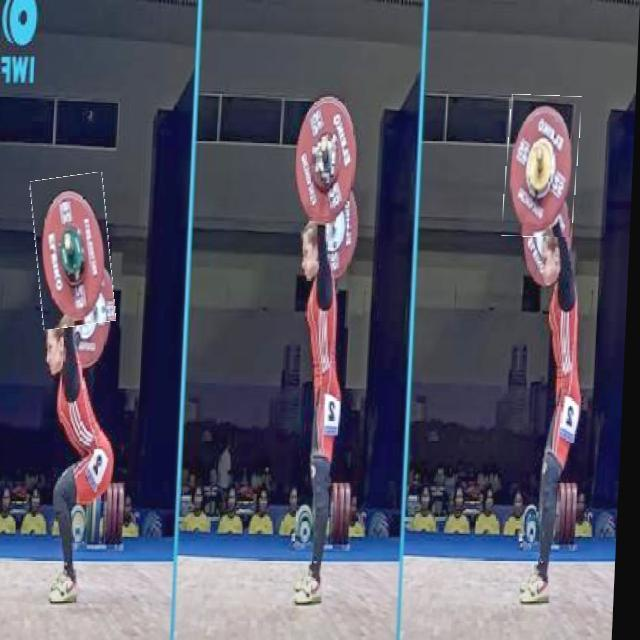barbell: (33, 175, 120, 329), (505, 95, 583, 238), (294, 93, 371, 229)
